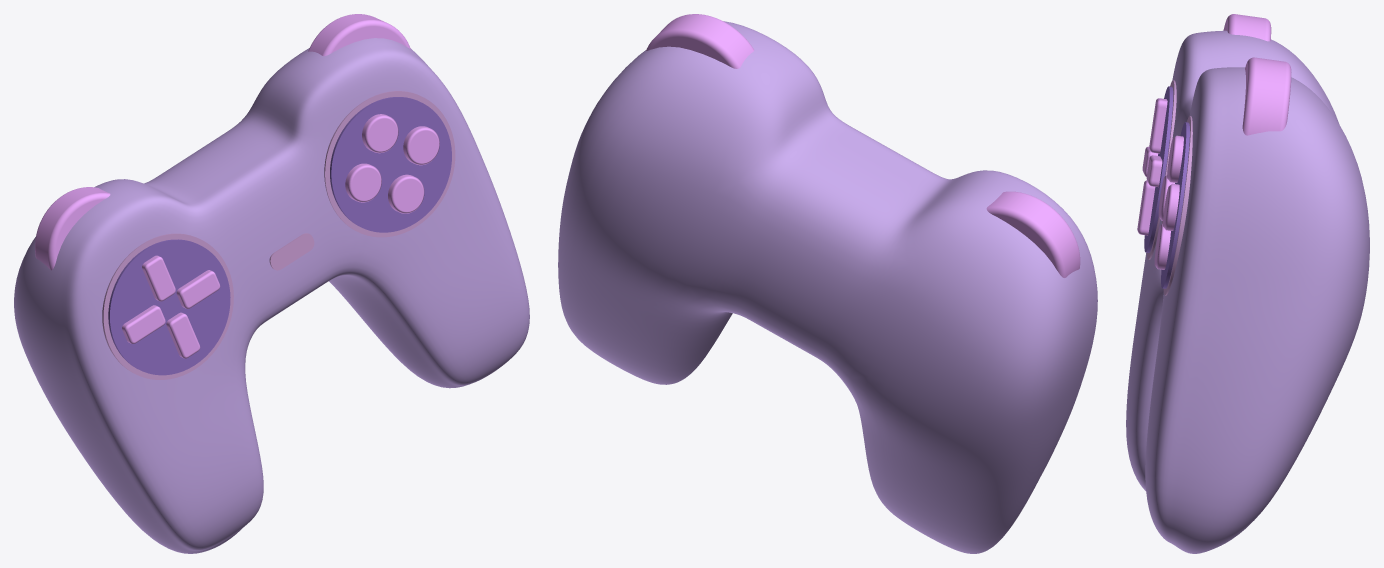
The model's file is Joystick.gltf.
3 views of the same model, side by side, from view 1: azimuth 30°, elevation 25°; view 2: azimuth 150°, elevation 25°; view 3: azimuth 270°, elevation 25° (orthographic). The views are drawn at different scales.
Visible parts, largest first — view 1: Cube, Ellipse 3 (×2), Ellipse 2, Cylinder, Ellipse 8 (×2), Ellipse, Cylinder 2, Rectangle 4 (×2), Rectangle 2 (×2), Ellipse 7, Ellipse 4, Rectangle 3; view 2: Cube, Cylinder, Cylinder 2; view 3: Cube, Cylinder 2, Ellipse 3 (×2), Ellipse 2, Cylinder, Rectangle 2, Rectangle 3, Ellipse 4, Ellipse 8, Ellipse 7, Ellipse, Rectangle 4.
Boxes of the visible parts, bbox=[...] form: Cube: bbox=[14, 38, 529, 553]; Ellipse 3 (×2): bbox=[324, 91, 455, 237]; Ellipse 2: bbox=[108, 239, 230, 375]; Cylinder: bbox=[35, 187, 110, 270]; Ellipse 8 (×2): bbox=[345, 126, 439, 202]; Ellipse: bbox=[102, 233, 233, 379]; Cylinder 2: bbox=[308, 14, 410, 56]; Rectangle 4 (×2): bbox=[122, 270, 220, 343]; Rectangle 2 (×2): bbox=[142, 233, 314, 301]; Ellipse 7: bbox=[388, 174, 424, 213]; Ellipse 4: bbox=[362, 114, 398, 153]; Rectangle 3: bbox=[166, 312, 200, 358]; Cube: bbox=[558, 21, 1097, 553]; Cylinder: bbox=[986, 191, 1080, 277]; Cylinder 2: bbox=[646, 14, 754, 68]; Cube: bbox=[1126, 30, 1369, 553]; Cylinder 2: bbox=[1242, 57, 1291, 135]; Ellipse 3 (×2): bbox=[1161, 116, 1192, 295]; Ellipse 2: bbox=[1144, 86, 1173, 252]; Cylinder: bbox=[1223, 14, 1271, 41]; Rectangle 2: bbox=[1149, 98, 1167, 153]; Rectangle 3: bbox=[1137, 180, 1155, 235]; Ellipse 4: bbox=[1167, 135, 1183, 182]; Ellipse 8: bbox=[1163, 183, 1179, 230]; Ellipse 7: bbox=[1154, 223, 1170, 269]; Ellipse: bbox=[1147, 80, 1176, 259]; Rectangle 4: bbox=[1146, 155, 1162, 187].
Size of the model in its own units: 2.36 by 2.2 by 0.8773.
